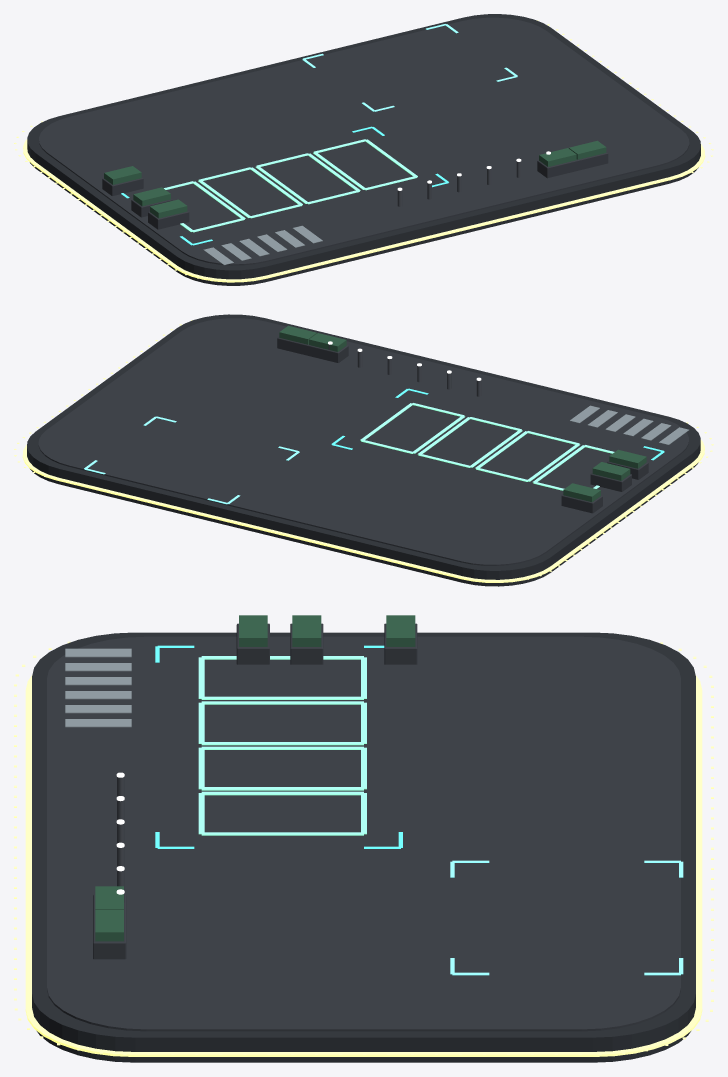
Rendered from ground_park.glb.
3 views of the same model, one above another, from view 1: azimuth 30°, elevation 25°; view 2: azimuth 150°, elevation 25°; view 3: azimuth 270°, elevation 25° (orthographic). The views are drawn at different scales.
Parts seen in each view (by area): view 1: part_deck, part_platform, part_gold_band, part_planter_2, part_planter_0, part_hedge_1, part_hedge_2, part_planter_3, part_hedge_0, part_hedge_3, part_hedge_4; view 2: part_deck, part_platform, part_gold_band, part_planter_0, part_hedge_1, part_planter_1, part_planter_3, part_hedge_0, part_hedge_2, part_hedge_3, part_hedge_4; view 3: part_deck, part_platform, part_gold_band, part_hedge_0, part_hedge_1, part_hedge_4, part_hedge_2, part_slot_3_l, part_planter_4, part_planter_0, part_planter_1, part_planter_2.
Part boxes in pixels (bbox=[...]): part_deck: bbox=[39, 17, 689, 265]; part_platform: bbox=[27, 14, 700, 285]; part_gold_band: bbox=[23, 139, 705, 282]; part_planter_2: bbox=[148, 210, 189, 229]; part_planter_0: bbox=[102, 177, 143, 195]; part_hedge_1: bbox=[133, 187, 170, 206]; part_hedge_2: bbox=[150, 199, 187, 218]; part_planter_3: bbox=[537, 159, 578, 178]; part_hedge_0: bbox=[104, 166, 141, 184]; part_hedge_3: bbox=[539, 148, 576, 166]; part_hedge_4: bbox=[569, 140, 606, 159]; part_deck: bbox=[38, 318, 688, 565]; part_platform: bbox=[27, 314, 700, 586]; part_gold_band: bbox=[22, 439, 704, 582]; part_planter_0: bbox=[561, 494, 602, 513]; part_hedge_1: bbox=[592, 462, 630, 480]; part_planter_1: bbox=[590, 473, 631, 491]; part_planter_3: bbox=[307, 344, 348, 362]; part_hedge_0: bbox=[563, 483, 600, 502]; part_hedge_2: bbox=[609, 449, 646, 468]; part_hedge_3: bbox=[309, 333, 346, 351]; part_hedge_4: bbox=[279, 325, 316, 344]; part_deck: bbox=[47, 636, 680, 1031]; part_platform: bbox=[32, 632, 695, 1062]; part_gold_band: bbox=[25, 675, 702, 1056]; part_hedge_0: bbox=[386, 615, 415, 646]; part_hedge_1: bbox=[292, 615, 321, 646]; part_hedge_4: bbox=[95, 909, 123, 941]; part_hedge_2: bbox=[239, 615, 267, 646]; part_slot_3_l: bbox=[201, 791, 363, 795]; part_planter_4: bbox=[93, 918, 126, 959]; part_planter_0: bbox=[384, 623, 417, 664]; part_planter_1: bbox=[290, 623, 323, 664]; part_planter_2: bbox=[236, 623, 269, 664].
Bounding box in the file's own units: 26.98 × 1.64 × 18.98.
